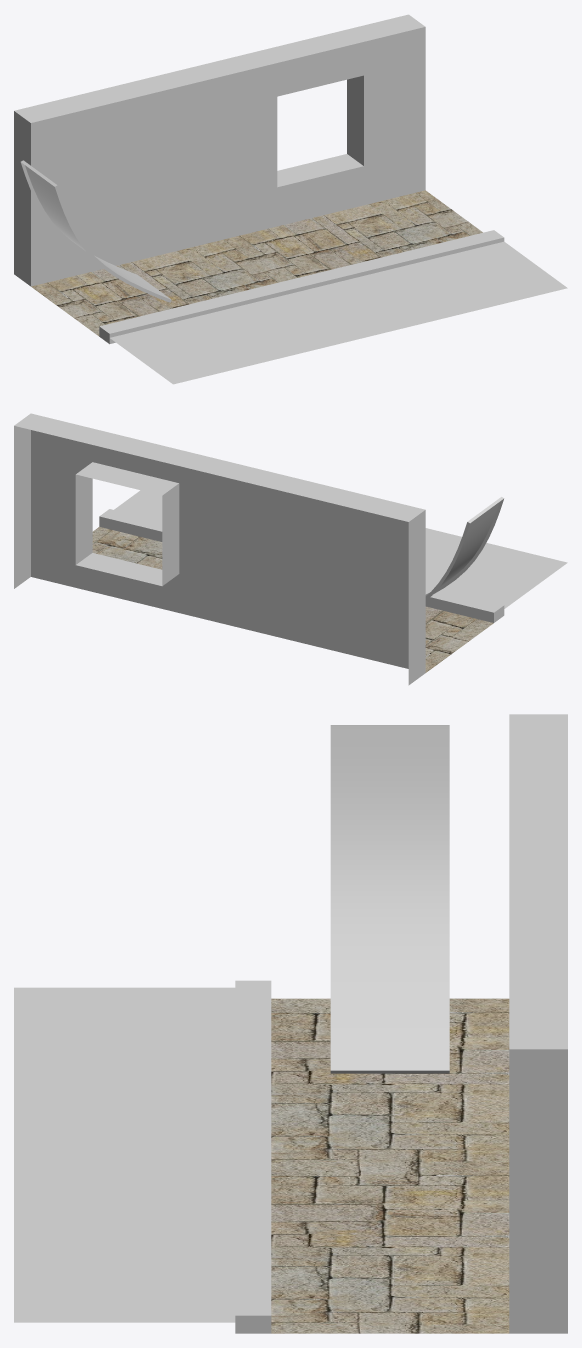
File: For game.fbx
3 renders of one model, top to bottom at view 1: azimuth 30°, elevation 25°; view 2: azimuth 150°, elevation 25°; view 3: azimuth 270°, elevation 25°, orthographic. The views are drawn at different scales.
Parts seen in each view (by area): view 1: Cube.001, Plane.002, Plane.001, Cube, Plane; view 2: Cube.001, Plane.002, Plane.001, Cube, Plane; view 3: Plane.002, Plane.001, Plane, Cube.001, Cube.
Boxes of the visible parts, box(x1,y1,x2,y2) form: Cube.001: box(14, 14, 425, 286); Plane.002: box(110, 241, 567, 384); Plane.001: box(31, 190, 482, 336); Cube: box(99, 230, 504, 344); Plane: box(20, 160, 171, 302); Cube.001: box(14, 413, 425, 685); Plane.002: box(114, 490, 567, 608); Plane.001: box(92, 527, 493, 672); Cube: box(99, 509, 504, 622); Plane: box(425, 497, 504, 600); Plane.002: box(14, 987, 235, 1322); Plane.001: box(271, 998, 509, 1333); Plane: box(330, 725, 449, 1073); Cube.001: box(509, 714, 567, 1333); Cube: box(235, 980, 271, 1333).
Size of the model in its own units: 1425 by 528 by 931.
1 material, 1 textured.
